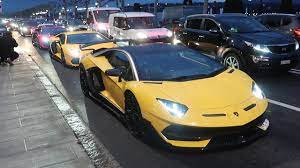Lamborghini: (82, 48, 229, 153)
